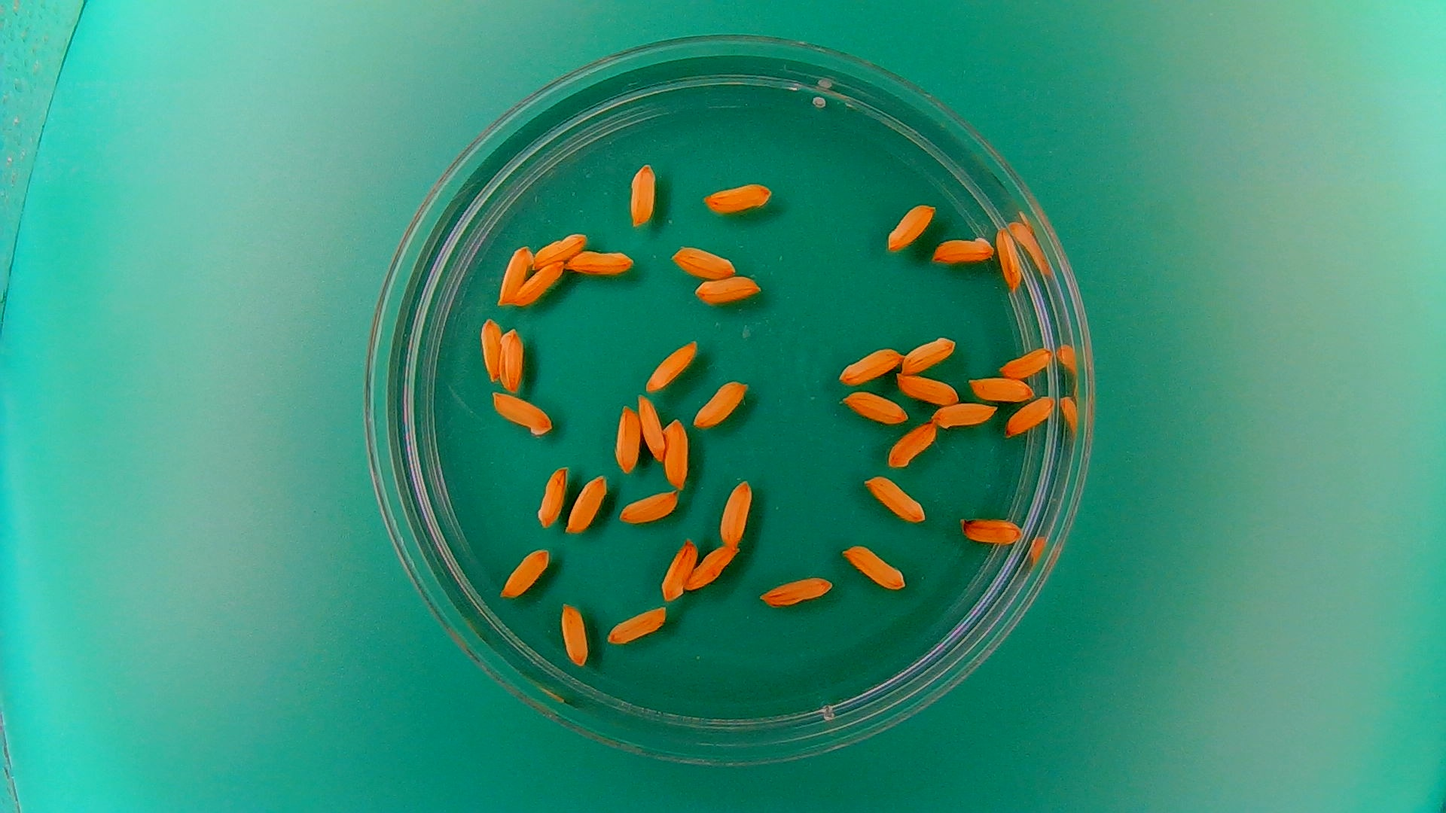no: (840, 540, 909, 592), (861, 473, 929, 525), (490, 388, 554, 438), (643, 336, 699, 392), (690, 376, 749, 429), (682, 540, 740, 592), (884, 199, 938, 254), (497, 545, 551, 600), (758, 572, 835, 610), (657, 534, 699, 602), (836, 343, 904, 385), (700, 178, 775, 216), (717, 475, 755, 548), (565, 471, 609, 534), (511, 257, 566, 307), (604, 604, 670, 645), (493, 241, 535, 305), (668, 242, 740, 279), (886, 419, 938, 470), (898, 332, 959, 375), (1003, 392, 1058, 438), (618, 486, 681, 525), (840, 390, 909, 425), (530, 229, 590, 269), (928, 231, 996, 266), (957, 513, 1027, 547), (894, 371, 962, 406), (993, 224, 1027, 293), (693, 273, 764, 306), (534, 463, 570, 528), (612, 400, 643, 474), (661, 414, 691, 490), (636, 392, 667, 462), (559, 599, 590, 669), (627, 159, 658, 228), (565, 246, 636, 276), (966, 373, 1036, 403), (933, 399, 999, 430), (997, 345, 1054, 379), (477, 314, 504, 385), (498, 324, 524, 394)
